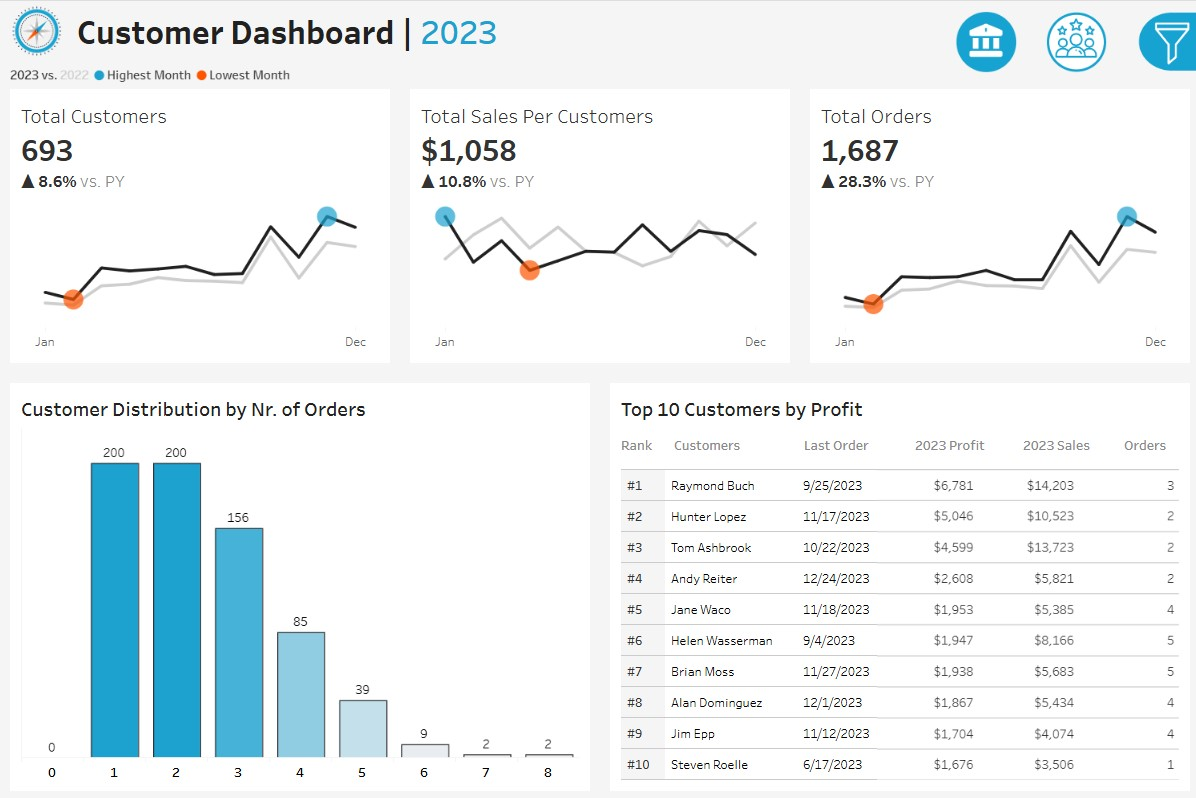

The page's visual inventory and layout, read from the dashboard file:
{"tool":"tableau","page":{"name":"Customer Dashboard","canvas":[1200,800],"ordinal":0},"visuals":[{"type":"image","param":"Image/Icon - Logo.png","box":[0,0,73,59]},{"type":"text","box":[73,0,820,59]},{"type":"dashboard-object","box":[940,6,91,70]},{"type":"dashboard-object","box":[1031,6,91,70]},{"type":"blank","box":[952,10,237,86]},{"type":"worksheet","title":"Legend KPI","mark":"Automatic","box":[0,59,1200,29]},{"type":"worksheet","title":"KPI Customers","mark":"Automatic","rows":["Min/Max Quantity (copy)_3221481164588691468"],"cols":["Order Date"],"box":[0,88,400,284]},{"type":"worksheet","title":"KPI Sales Per Customers","mark":"Automatic","rows":["Min/Max Quantity (copy)_3221481164537155591"],"cols":["Order Date"],"box":[400,88,400,284]},{"type":"worksheet","title":"KPI Orders","mark":"Automatic","rows":["Min/Max Sales (copy)_3221481164601258003"],"cols":["Order Date"],"box":[800,88,400,284]},{"type":"text","box":[952,96,237,40]},{"type":"parameter","param":"[Parameters].[Parameter 1]","box":[952,136,237,56]},{"type":"text","box":[952,192,237,33]},{"type":"filter","title":"KPI Customers","param":"[federated.1kpxa041aiai2y1cl4pui1t4eju9].[none:Category:nk]","box":[952,225,237,61]},{"type":"filter","title":"KPI Customers","param":"[federated.1kpxa041aiai2y1cl4pui1t4eju9].[none:Sub-Category:nk]","box":[952,286,237,61]},{"type":"blank","box":[952,347,237,60]},{"type":"text","box":[17,389,566,40]},{"type":"text","box":[617,389,566,40]},{"type":"text","box":[952,407,237,33]},{"type":"worksheet","title":"Customer Distribution","mark":"Bar","rows":["CY Sales (copy)_3221481164532666369"],"cols":["Calculation_998110323739992064"],"box":[17,429,566,354]},{"type":"text","box":[617,429,53,40]},{"type":"text","box":[670,429,130,40]},{"type":"text","box":[800,429,111,40]},{"type":"text","box":[911,429,108,40]},{"type":"text","box":[1019,429,101,40]},{"type":"text","box":[1120,429,63,40]},{"type":"filter","title":"KPI Customers","param":"[federated.1kpxa041aiai2y1cl4pui1t4eju9].[none:Region:nk]","box":[952,440,237,61]},{"type":"worksheet","title":"Top Customers","mark":"Automatic","rows":["Calculation_782500491678904334","Customer Name","Order Date"],"box":[617,469,566,314]},{"type":"filter","title":"KPI Customers","param":"[federated.1kpxa041aiai2y1cl4pui1t4eju9].[none:State:nk]","box":[952,501,237,61]},{"type":"filter","title":"KPI Customers","param":"[federated.1kpxa041aiai2y1cl4pui1t4eju9].[none:City:nk]","box":[952,562,237,61]}]}

Visuals, with their boxes in screenshot pixels (x1, y1, x2, y2), scaled from the page's 1200x800 canvas onto the 1196x798 screenshot:
image: {"x1": 0, "y1": 0, "x2": 73, "y2": 59}
text: {"x1": 73, "y1": 0, "x2": 890, "y2": 59}
dashboard-object: {"x1": 937, "y1": 6, "x2": 1028, "y2": 76}
dashboard-object: {"x1": 1028, "y1": 6, "x2": 1118, "y2": 76}
blank: {"x1": 949, "y1": 10, "x2": 1185, "y2": 96}
"Legend KPI" worksheet: {"x1": 0, "y1": 59, "x2": 1195, "y2": 88}
"KPI Customers" worksheet: {"x1": 0, "y1": 88, "x2": 399, "y2": 371}
"KPI Sales Per Customers" worksheet: {"x1": 399, "y1": 88, "x2": 797, "y2": 371}
"KPI Orders" worksheet: {"x1": 797, "y1": 88, "x2": 1195, "y2": 371}
text: {"x1": 949, "y1": 96, "x2": 1185, "y2": 136}
parameter: {"x1": 949, "y1": 136, "x2": 1185, "y2": 192}
text: {"x1": 949, "y1": 192, "x2": 1185, "y2": 224}
"KPI Customers" filter: {"x1": 949, "y1": 224, "x2": 1185, "y2": 285}
"KPI Customers" filter: {"x1": 949, "y1": 285, "x2": 1185, "y2": 346}
blank: {"x1": 949, "y1": 346, "x2": 1185, "y2": 406}
text: {"x1": 17, "y1": 388, "x2": 581, "y2": 428}
text: {"x1": 615, "y1": 388, "x2": 1179, "y2": 428}
text: {"x1": 949, "y1": 406, "x2": 1185, "y2": 439}
"Customer Distribution" worksheet (Bar marks): {"x1": 17, "y1": 428, "x2": 581, "y2": 781}
text: {"x1": 615, "y1": 428, "x2": 668, "y2": 468}
text: {"x1": 668, "y1": 428, "x2": 797, "y2": 468}
text: {"x1": 797, "y1": 428, "x2": 908, "y2": 468}
text: {"x1": 908, "y1": 428, "x2": 1016, "y2": 468}
text: {"x1": 1016, "y1": 428, "x2": 1116, "y2": 468}
text: {"x1": 1116, "y1": 428, "x2": 1179, "y2": 468}
"KPI Customers" filter: {"x1": 949, "y1": 439, "x2": 1185, "y2": 500}
"Top Customers" worksheet: {"x1": 615, "y1": 468, "x2": 1179, "y2": 781}
"KPI Customers" filter: {"x1": 949, "y1": 500, "x2": 1185, "y2": 561}
"KPI Customers" filter: {"x1": 949, "y1": 561, "x2": 1185, "y2": 621}
